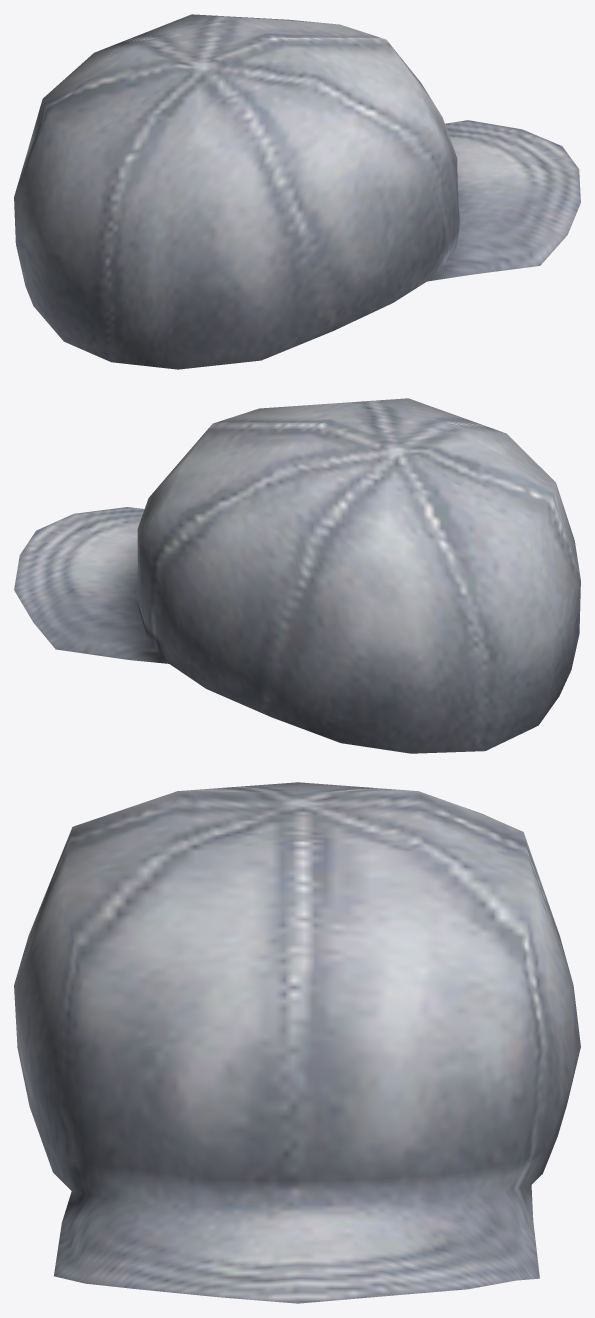
Rendered from hat_0450066.FBX.
The picture shows the model from 3 angles, top to bottom: view 1: azimuth 30°, elevation 25°; view 2: azimuth 150°, elevation 25°; view 3: azimuth 270°, elevation 25°; orthographic projection. The views are drawn at different scales.
Parts seen in each view (by area): view 1: hat_0450066; view 2: hat_0450066; view 3: hat_0450066.
Boxes of the visible parts, <box> form: hat_0450066: <box>14,14,580,369</box>; hat_0450066: <box>14,398,580,753</box>; hat_0450066: <box>14,782,580,1303</box>.
Size of the model in its own units: 33.92 by 15.62 by 22.06.
